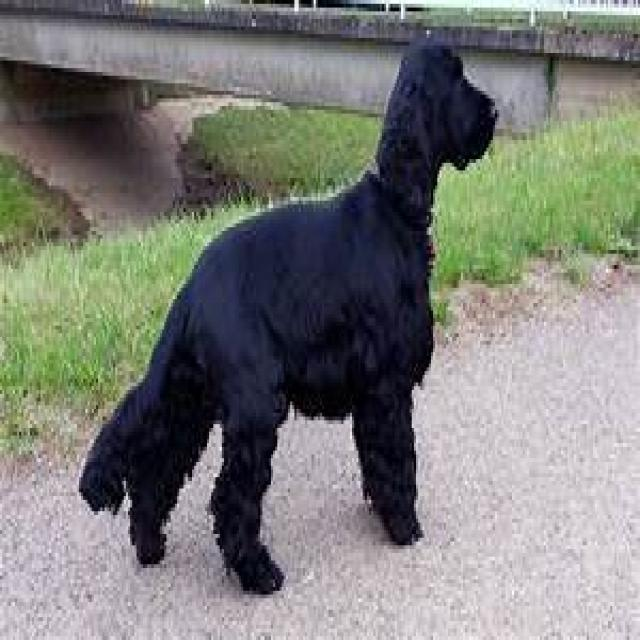dog: (80, 44, 496, 591)
